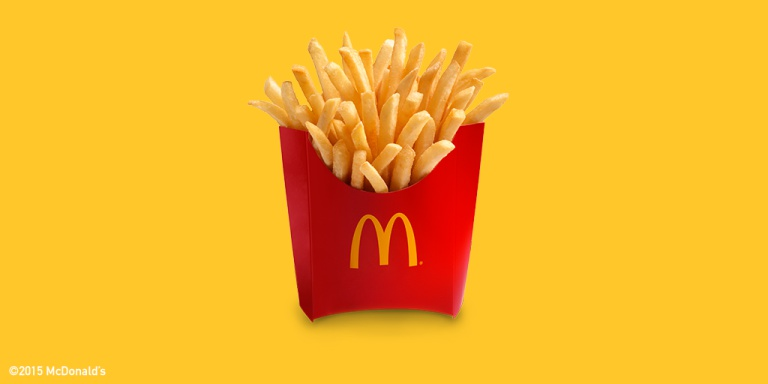mcdonalds: (345, 211, 420, 272)
